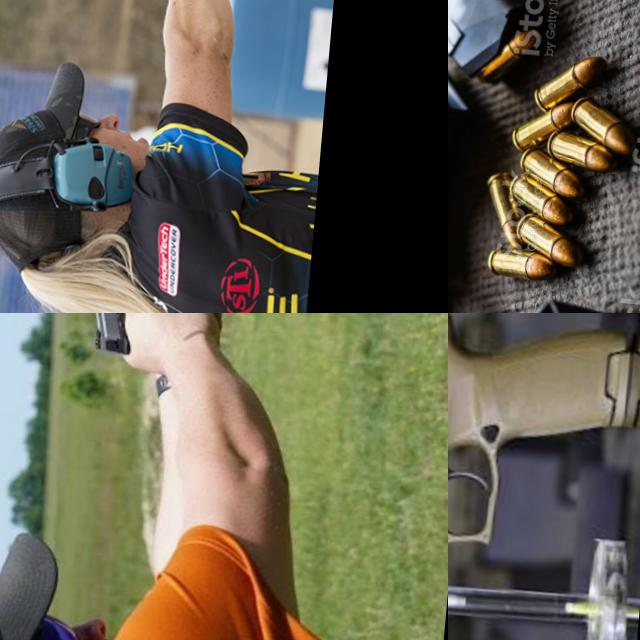handgun: (448, 313, 640, 640), (448, 33, 565, 313), (94, 0, 186, 73), (72, 313, 152, 368)
